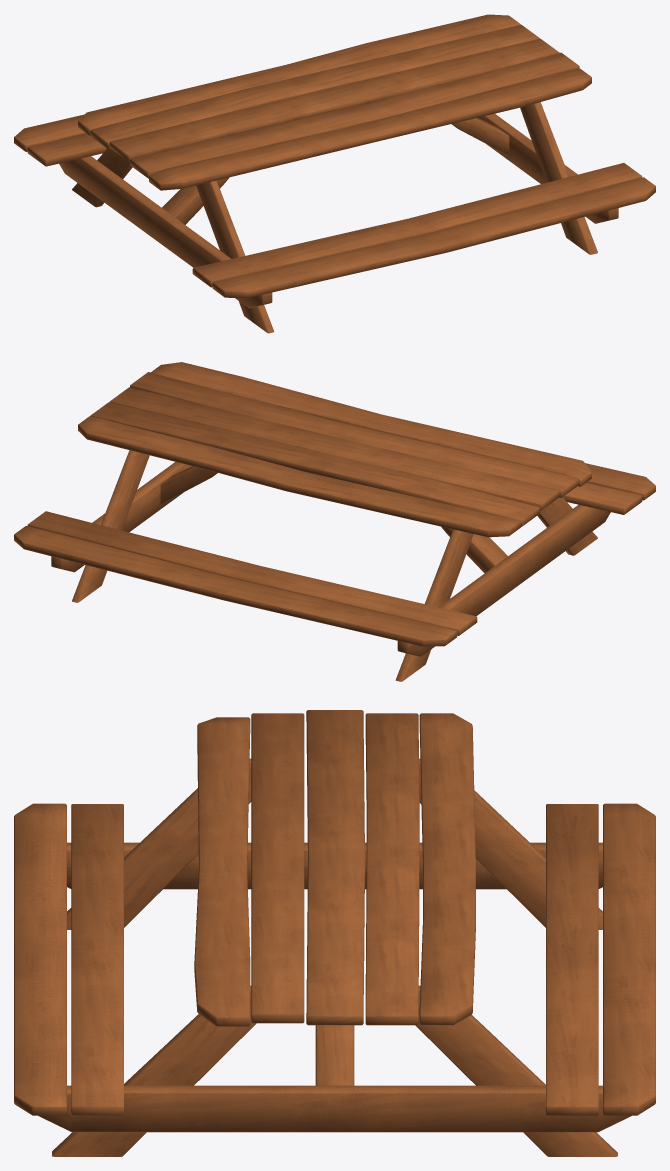
The model's file is SM_Table_01.fbx.
The picture shows the model from 3 angles, top to bottom: view 1: azimuth 30°, elevation 25°; view 2: azimuth 150°, elevation 25°; view 3: azimuth 270°, elevation 25°; orthographic projection. The views are drawn at different scales.
Visible parts, largest first — view 1: SM_Table_01; view 2: SM_Table_01; view 3: SM_Table_01.
Part boxes in pixels (<box>): SM_Table_01: <box>14,14,655,333</box>; SM_Table_01: <box>14,362,655,681</box>; SM_Table_01: <box>14,710,655,1156</box>.
Size of the model in its own units: 685 by 614 by 191.
